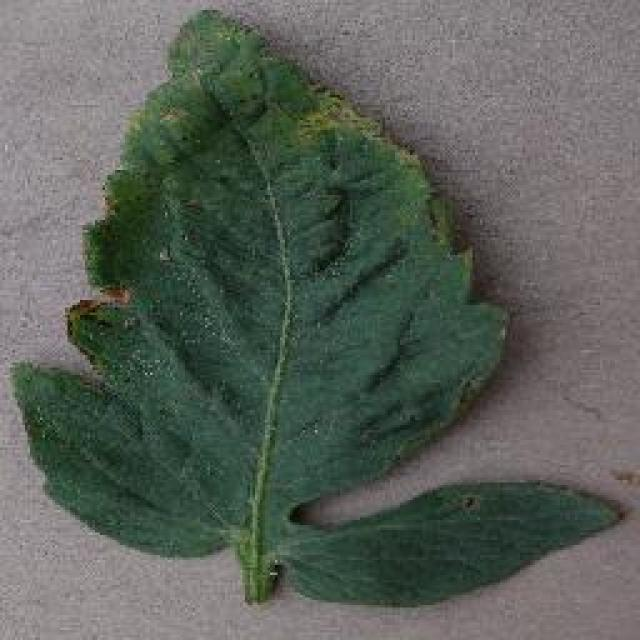Tomato___Bacterial_spot: (4, 12, 626, 613)
